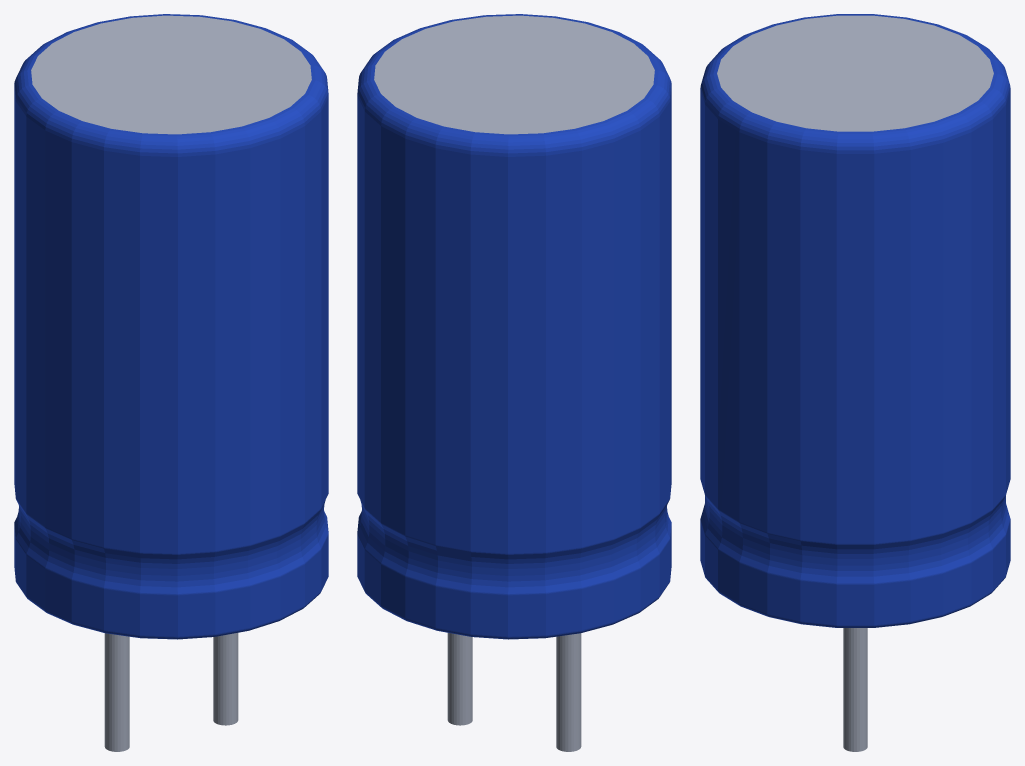
File: 00_Alum_PitchxDiaxHei_2p5x6p3x11mm.obj
The picture shows the model from 3 angles, left to right: view 1: azimuth 30°, elevation 25°; view 2: azimuth 150°, elevation 25°; view 3: azimuth 270°, elevation 25°; orthographic projection.
Visible parts, largest first — view 1: 00_Alum_PitchxDiaxHei_2p5x6p3x11mm; view 2: 00_Alum_PitchxDiaxHei_2p5x6p3x11mm; view 3: 00_Alum_PitchxDiaxHei_2p5x6p3x11mm.
Part boxes in pixels (x1,y1,x2,y2): 00_Alum_PitchxDiaxHei_2p5x6p3x11mm: [14, 14, 328, 751]; 00_Alum_PitchxDiaxHei_2p5x6p3x11mm: [357, 14, 671, 751]; 00_Alum_PitchxDiaxHei_2p5x6p3x11mm: [700, 14, 1010, 751].
Size of the model in its own units: 0.0118 by 0.0274 by 0.0119.
